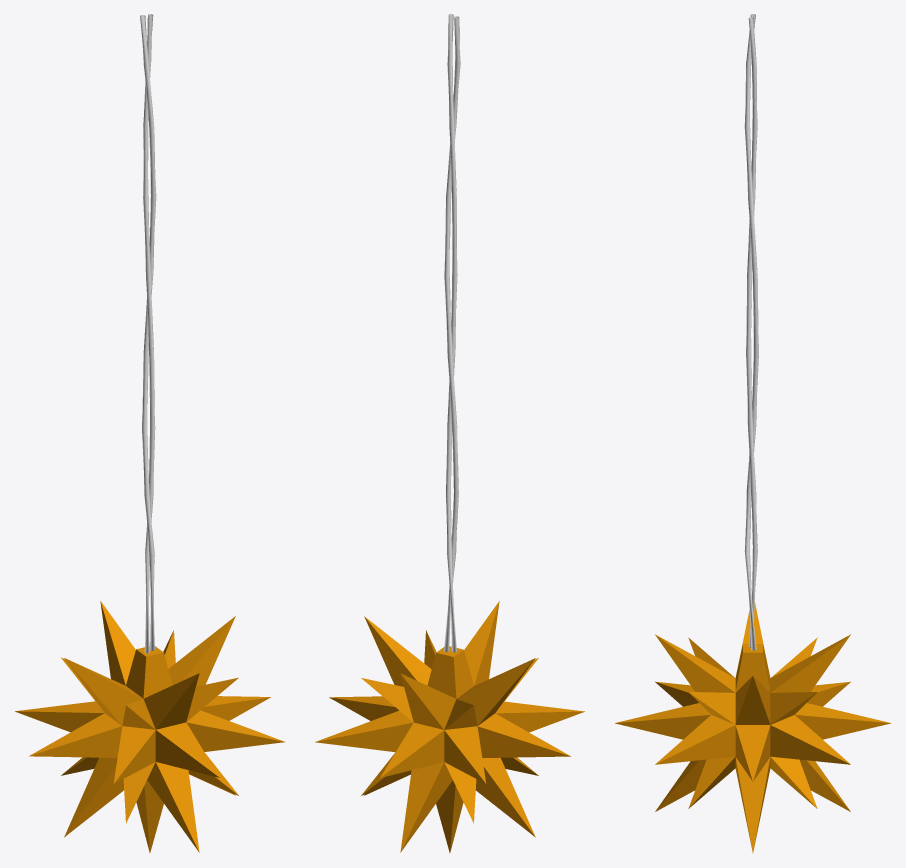
Rendered from yellow star.fbx.
3 renders of one model, left to right at view 1: azimuth 30°, elevation 25°; view 2: azimuth 150°, elevation 25°; view 3: azimuth 270°, elevation 25°, orthographic.
Visible parts, largest first — view 1: star orange, Cable.001; view 2: star orange, Cable.001; view 3: star orange, Cable.001.
Part boxes in pixels (left/top/right/bottom): star orange: left=15, top=601, right=284, bottom=852; Cable.001: left=140, top=14, right=156, bottom=653; star orange: left=315, top=601, right=584, bottom=852; Cable.001: left=444, top=14, right=460, bottom=652; star orange: left=615, top=602, right=890, bottom=852; Cable.001: left=744, top=14, right=758, bottom=650.
Size of the model in its own units: 22.03 by 72.66 by 22.03.
